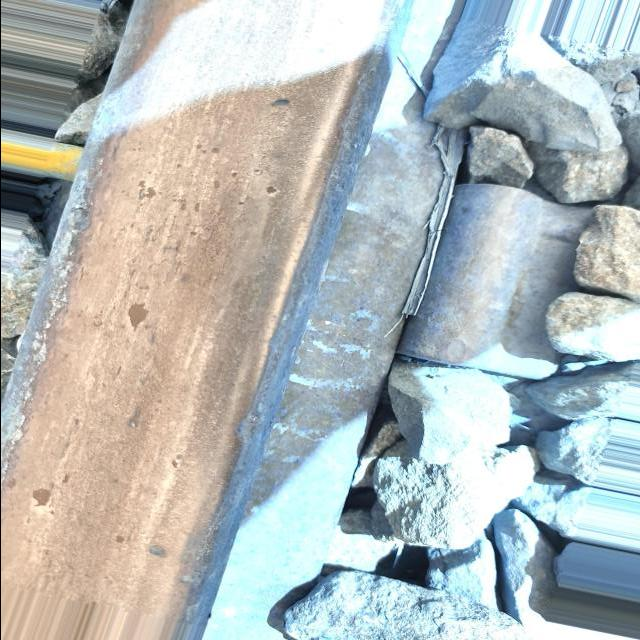squats_high: (127, 178, 163, 204), (123, 300, 151, 330), (26, 486, 52, 511), (108, 529, 130, 547), (146, 544, 169, 561), (267, 98, 294, 110), (258, 183, 278, 199)
